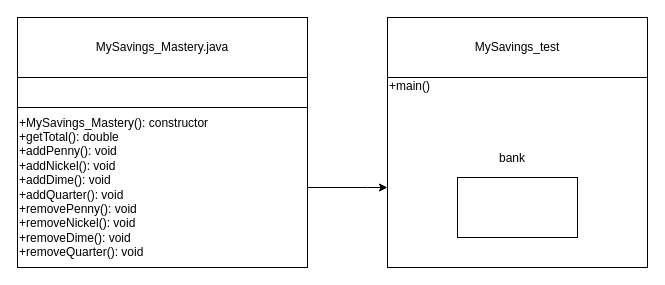
Some shapes in this 665 by 285 pixel diagram are drawn without their labels. Here are the shapes that lost their labels. From the top down, the centre of each, then its label:
At pixel 162 92: "+total: double".
At pixel 517 207: "total = 0".
